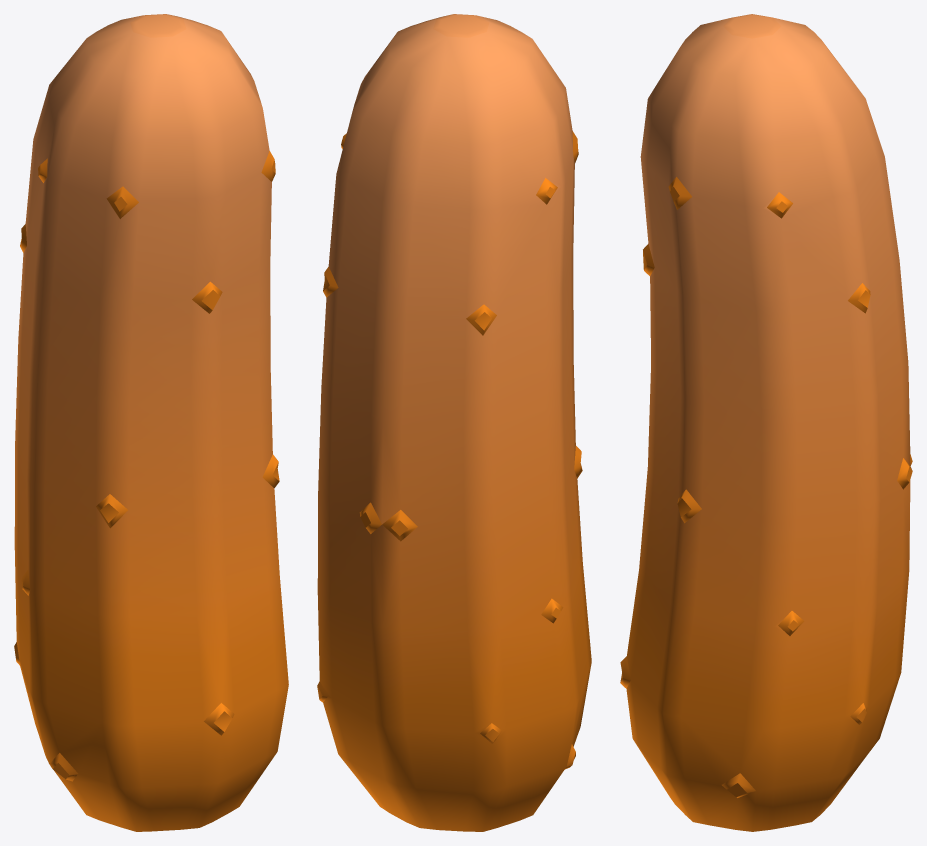
File: Cucumber.fbx
3 renders of one model, left to right at view 1: azimuth 30°, elevation 25°; view 2: azimuth 150°, elevation 25°; view 3: azimuth 270°, elevation 25°, orthographic.
Visible parts, largest first — view 1: Cucumber; view 2: Cucumber; view 3: Cucumber.
Part boxes in pixels (box(x1,y1,x2,y2)): Cucumber: box(14, 14, 288, 831); Cucumber: box(317, 14, 591, 831); Cucumber: box(620, 14, 912, 831).
Size of the model in its own units: 40.25 by 42.53 by 127.
